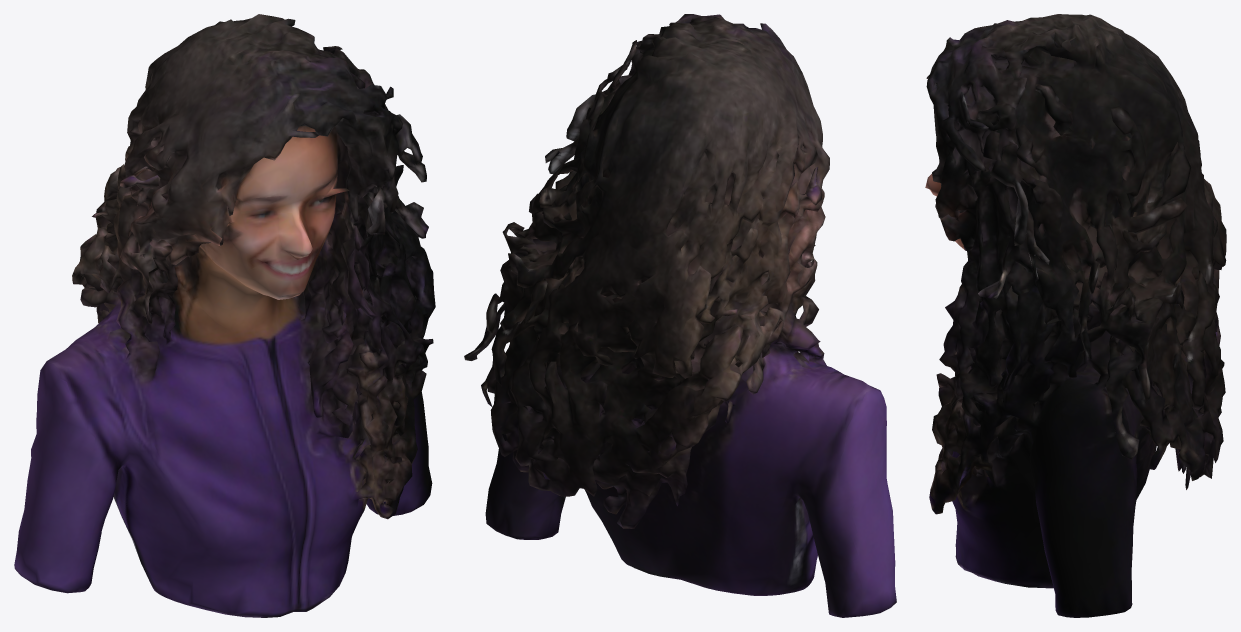
Rendered from standard_front_view_o_0919011450.glb.
3 views of the same model, side by side, from view 1: azimuth 30°, elevation 25°; view 2: azimuth 150°, elevation 25°; view 3: azimuth 270°, elevation 25° (orthographic).
Size of the model in its own units: 1.56 by 1.99 by 0.9981.
1 material, 1 textured.
